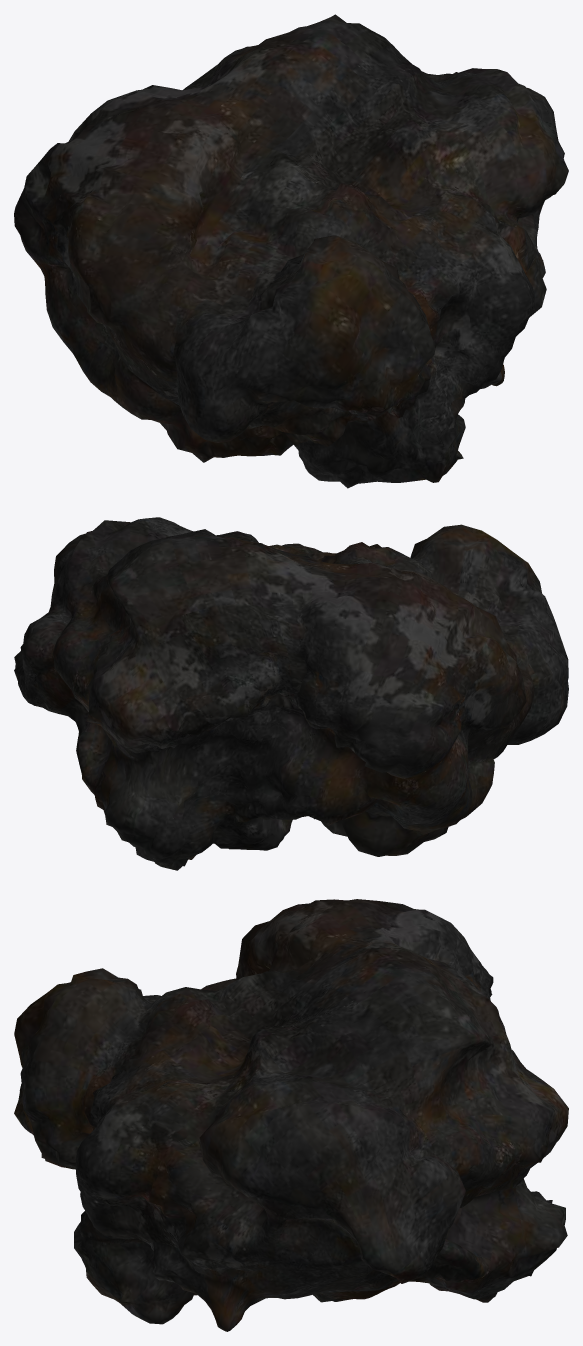
Rendered from Rocky_Asteroid_5.glb.
The picture shows the model from 3 angles, top to bottom: view 1: azimuth 30°, elevation 25°; view 2: azimuth 150°, elevation 25°; view 3: azimuth 270°, elevation 25°; orthographic projection. The views are drawn at different scales.
Visible parts, largest first — view 1: Rocky_Asteroid_5_Web; view 2: Rocky_Asteroid_5_Web; view 3: Rocky_Asteroid_5_Web.
Boxes of the visible parts, x1,y1,x2,y2 form: Rocky_Asteroid_5_Web: [14, 14, 568, 488]; Rocky_Asteroid_5_Web: [14, 517, 568, 870]; Rocky_Asteroid_5_Web: [14, 899, 568, 1331].
Size of the model in its own units: 1.91 by 1.3 by 1.8.
1 material, 1 textured.
